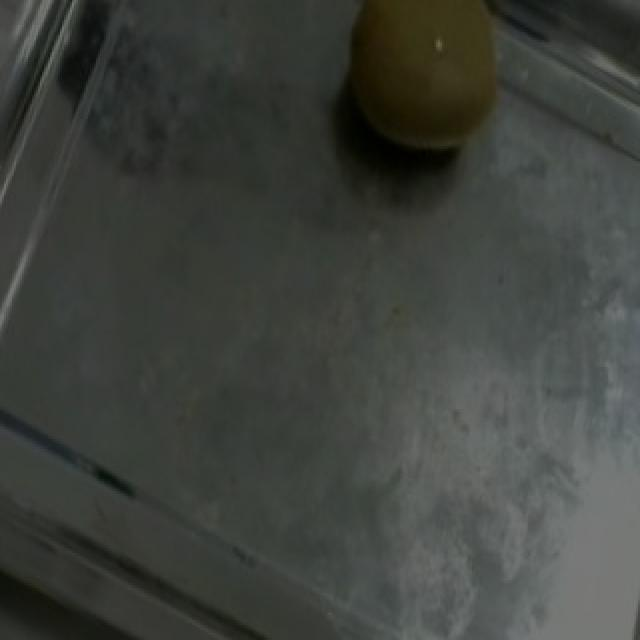Fruit: (308, 0, 542, 191)
